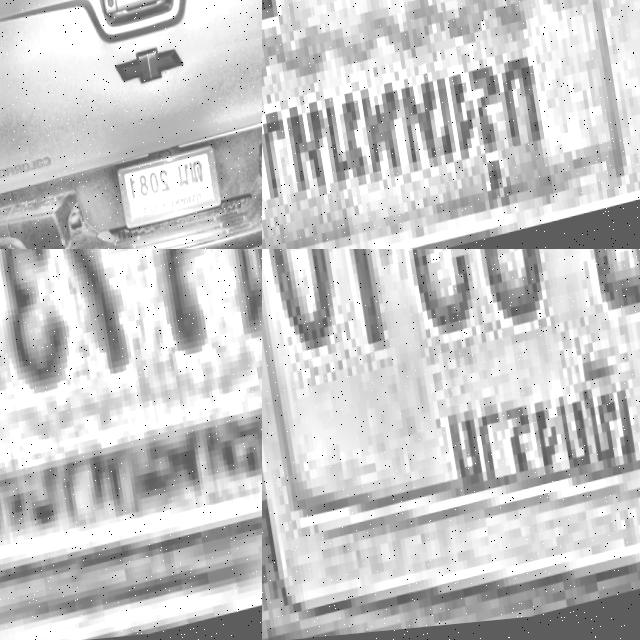license-plate: (262, 249, 640, 640), (0, 249, 262, 640), (262, 0, 640, 249), (115, 150, 220, 235)
